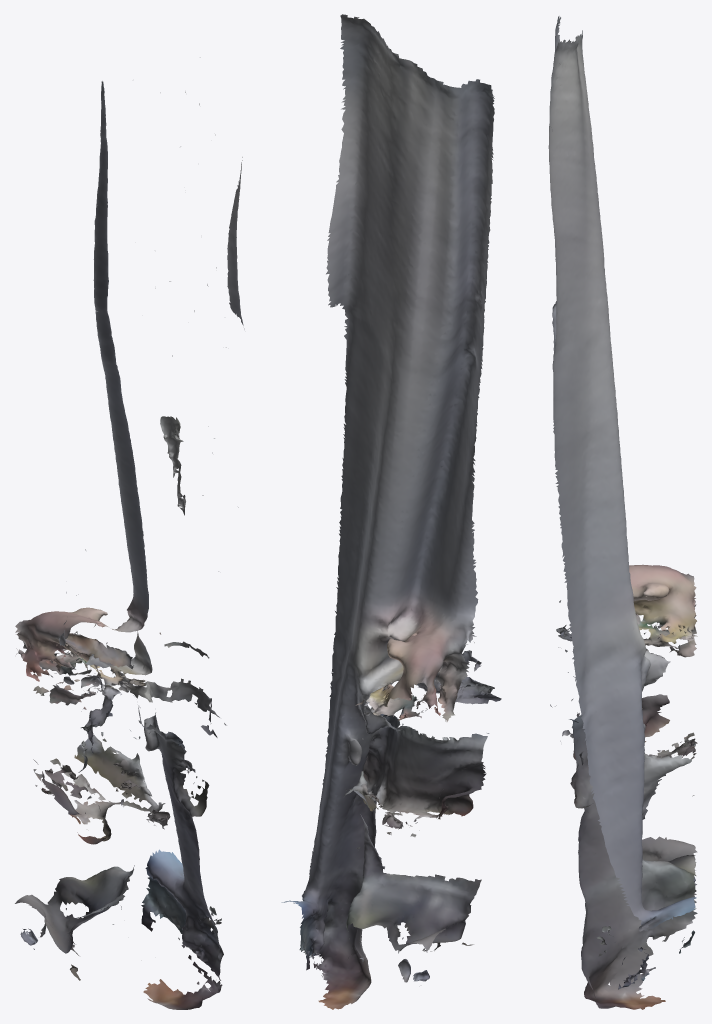
The model's file is apartment-full-110-0f5e2a6bce93.glb.
3 views of the same model, side by side, from view 1: azimuth 30°, elevation 25°; view 2: azimuth 150°, elevation 25°; view 3: azimuth 270°, elevation 25° (orthographic). The views are drawn at different scales.
Size of the model in its own units: 0.404 by 2.37 by 0.37.
